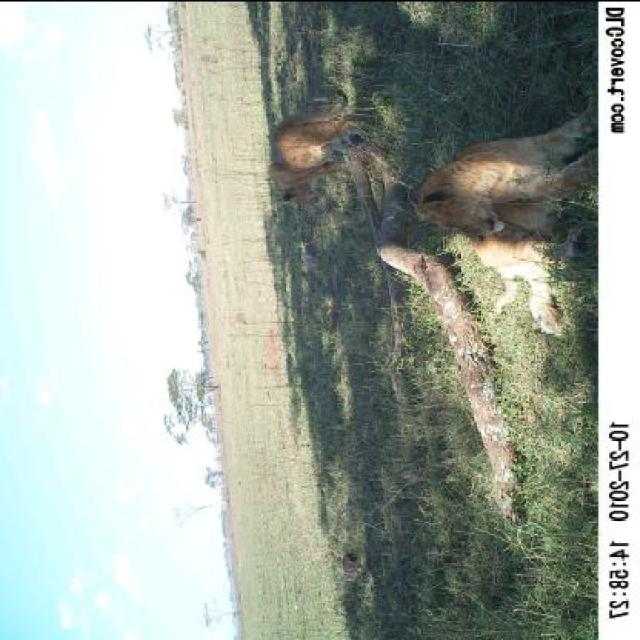Lion: (408, 103, 588, 346), (251, 80, 374, 215)
